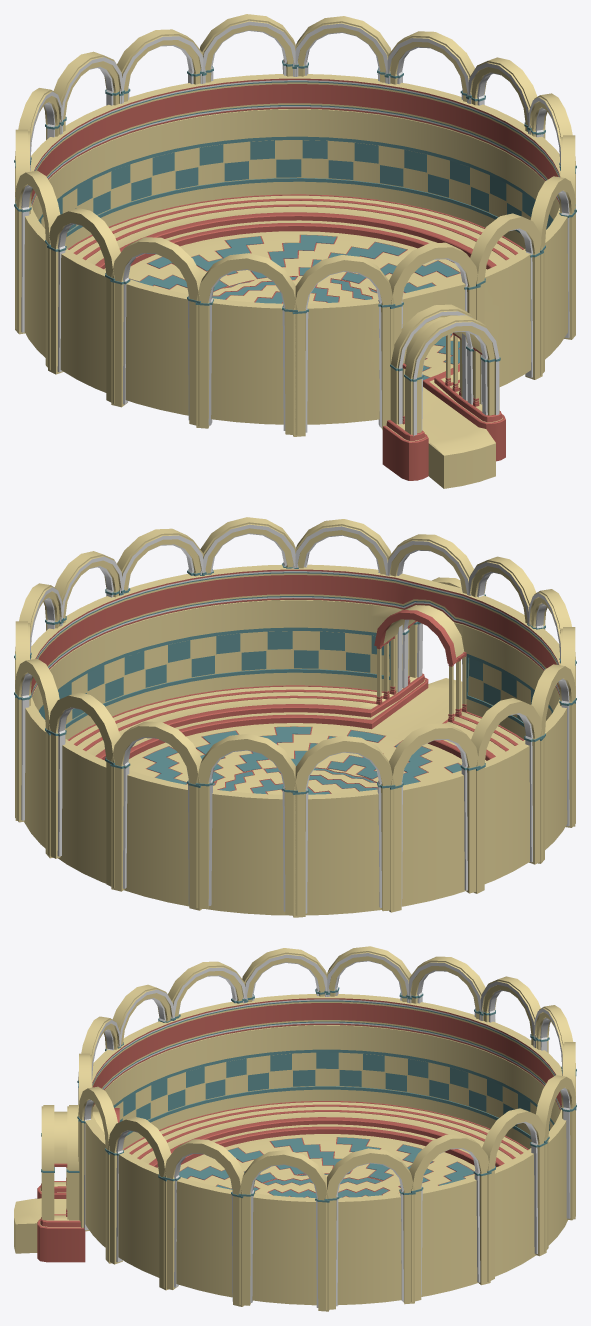
File: LevelCol.fbx
3 views of the same model, one above another, from view 1: azimuth 30°, elevation 25°; view 2: azimuth 150°, elevation 25°; view 3: azimuth 270°, elevation 25° (orthographic). The views are drawn at different scales.
Visible parts, largest first — view 1: Colisseum; view 2: Colisseum; view 3: Colisseum.
Boxes of the visible parts, left/top/right/bottom form: Colisseum: left=14, top=14, right=576, bottom=488; Colisseum: left=14, top=517, right=576, bottom=917; Colisseum: left=14, top=946, right=576, bottom=1311.
Bounding box in the file's own units: 30.07 × 13.02 × 33.43.
